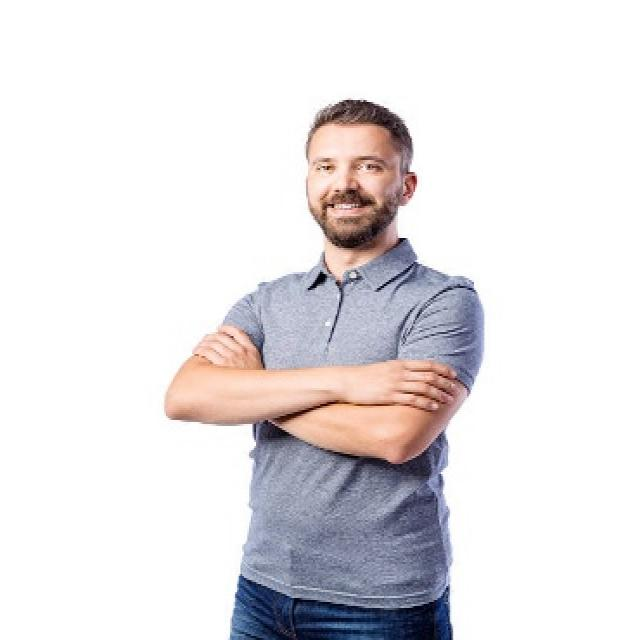adult: (156, 100, 489, 633)
